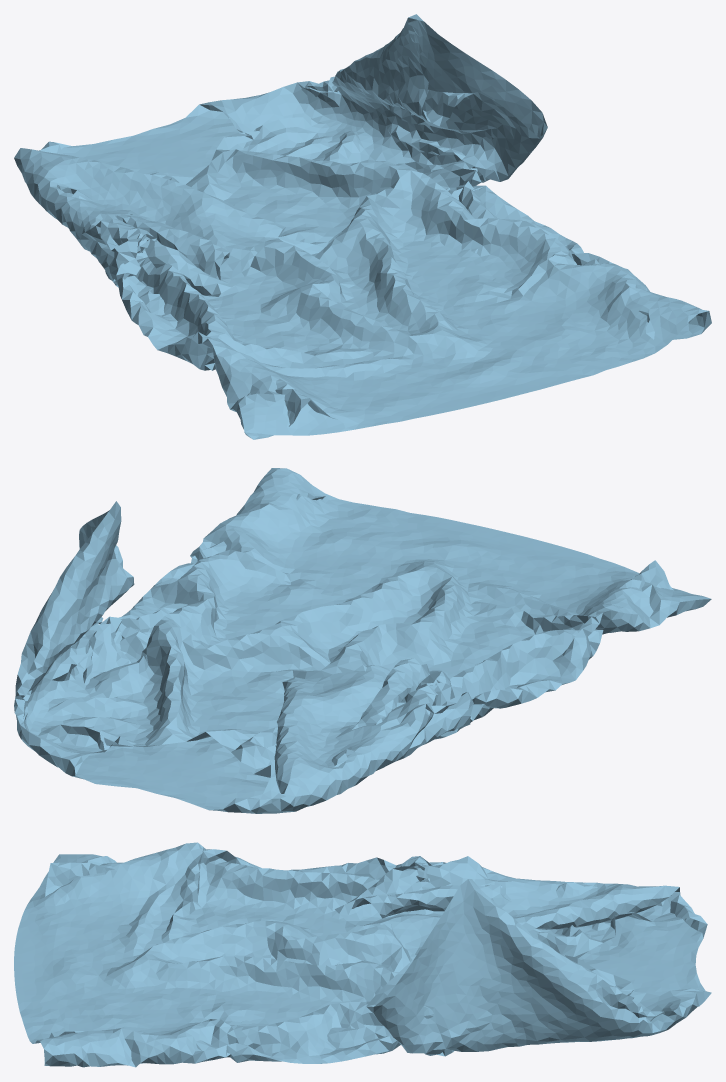
File: frame_10.glb
3 views of the same model, one above another, from view 1: azimuth 30°, elevation 25°; view 2: azimuth 150°, elevation 25°; view 3: azimuth 270°, elevation 25° (orthographic). The views are drawn at different scales.
Parts seen in each view (by area): view 1: frame_10.obj; view 2: frame_10.obj; view 3: frame_10.obj.
Boxes of the visible parts, <box> form: frame_10.obj: <box>14,14,711,439</box>; frame_10.obj: <box>14,468,711,813</box>; frame_10.obj: <box>14,842,711,1067</box>.
Bounding box in the file's own units: 1.25 × 0.4492 × 1.7.
